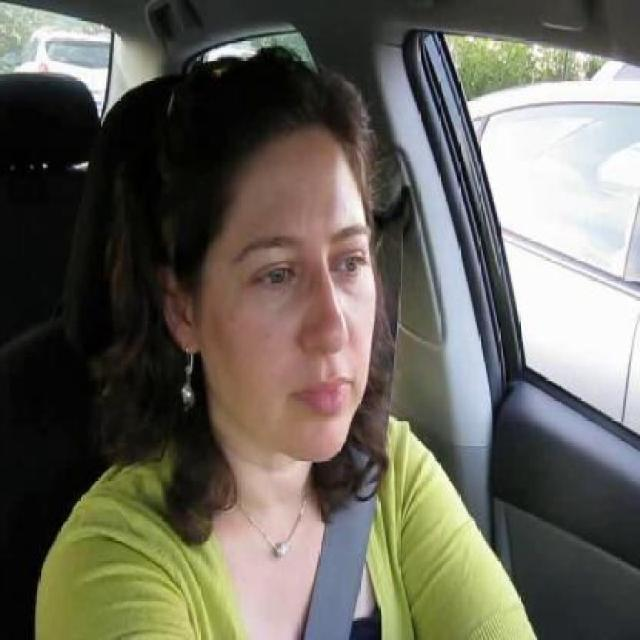awake: (333, 250, 369, 278), (258, 261, 292, 290)
